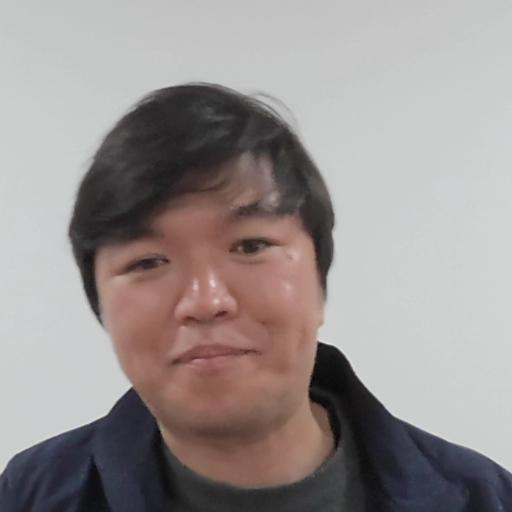no_glasses: (62, 81, 347, 448)
